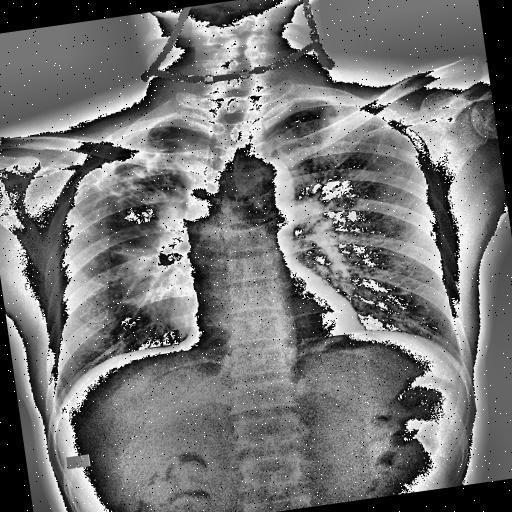0- Aortic enlargement: (234, 152, 298, 215), (236, 154, 298, 214), (232, 151, 298, 206)
11- Pleural thickening: (74, 112, 196, 177), (74, 110, 174, 179), (274, 103, 341, 124)
13- Pulmonary fibrosis: (74, 116, 208, 224), (92, 144, 187, 229), (94, 151, 188, 224), (328, 148, 430, 190), (286, 102, 336, 125)
4- Consolidation: (110, 206, 200, 336), (108, 236, 205, 348)
7- Lung Opacity: (122, 244, 204, 336)
8- Nodule-Mass: (110, 206, 200, 336), (122, 244, 204, 336)
